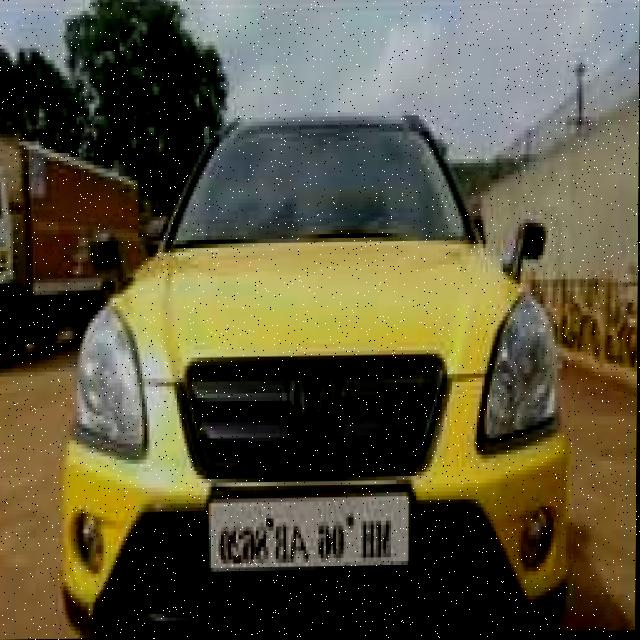plate: (206, 481, 414, 583)
